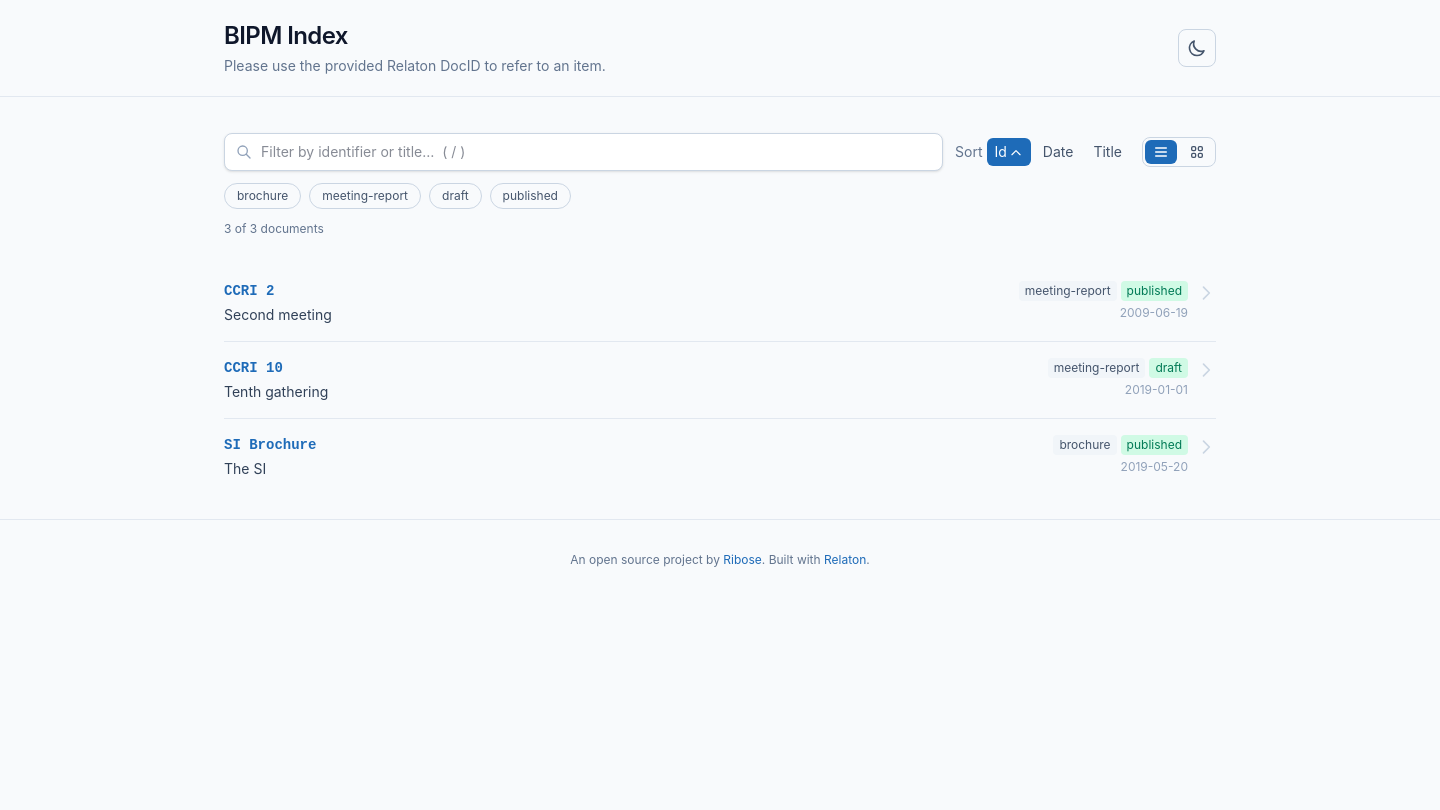
Test case: on-demand detail fields › fetches the detail record when a document is opened and fills the panel in
Click the link "CCRI 2": (249, 291) [224,283,274,299]
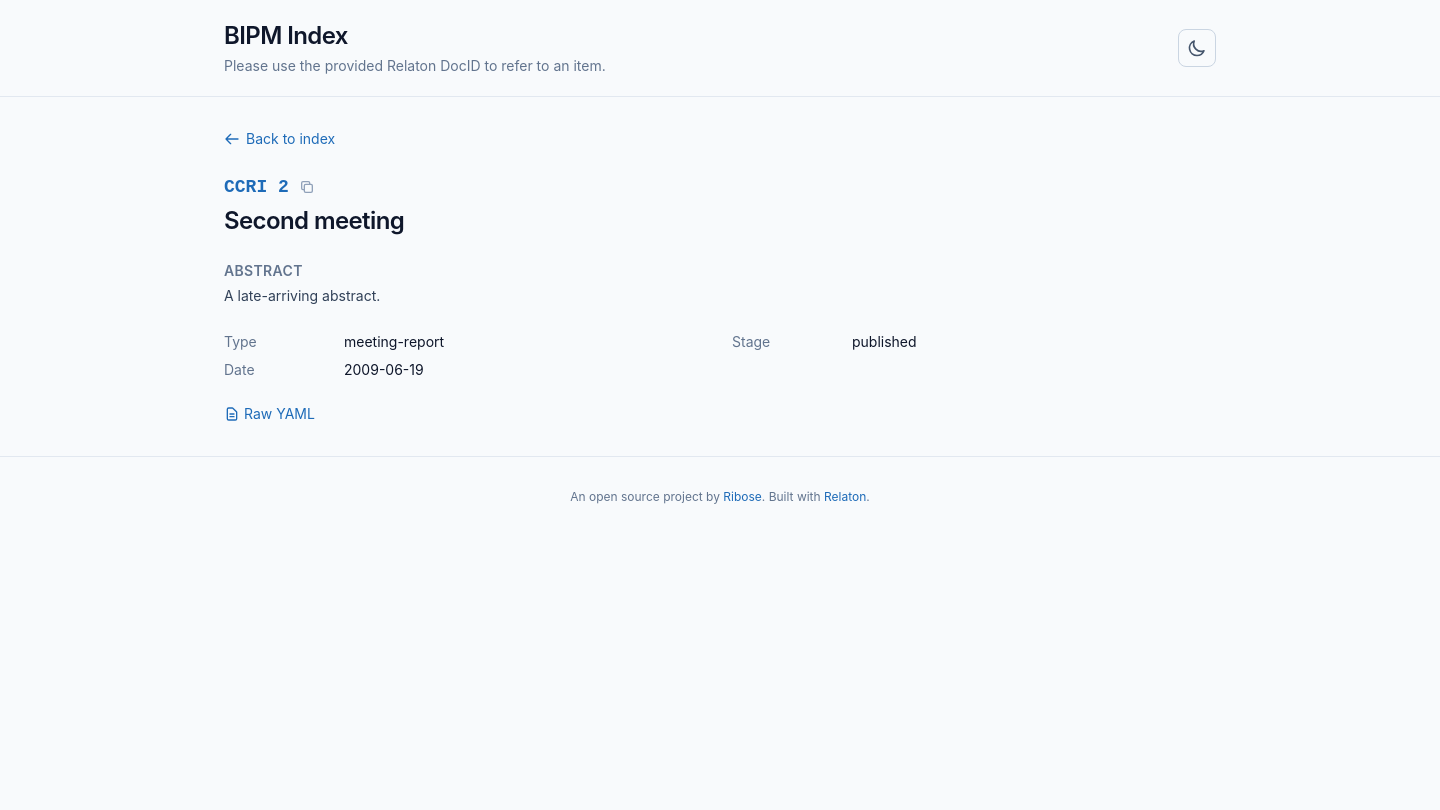
Expected: the text "A late-arriving abstract." is shown, [224,287,380,304]
